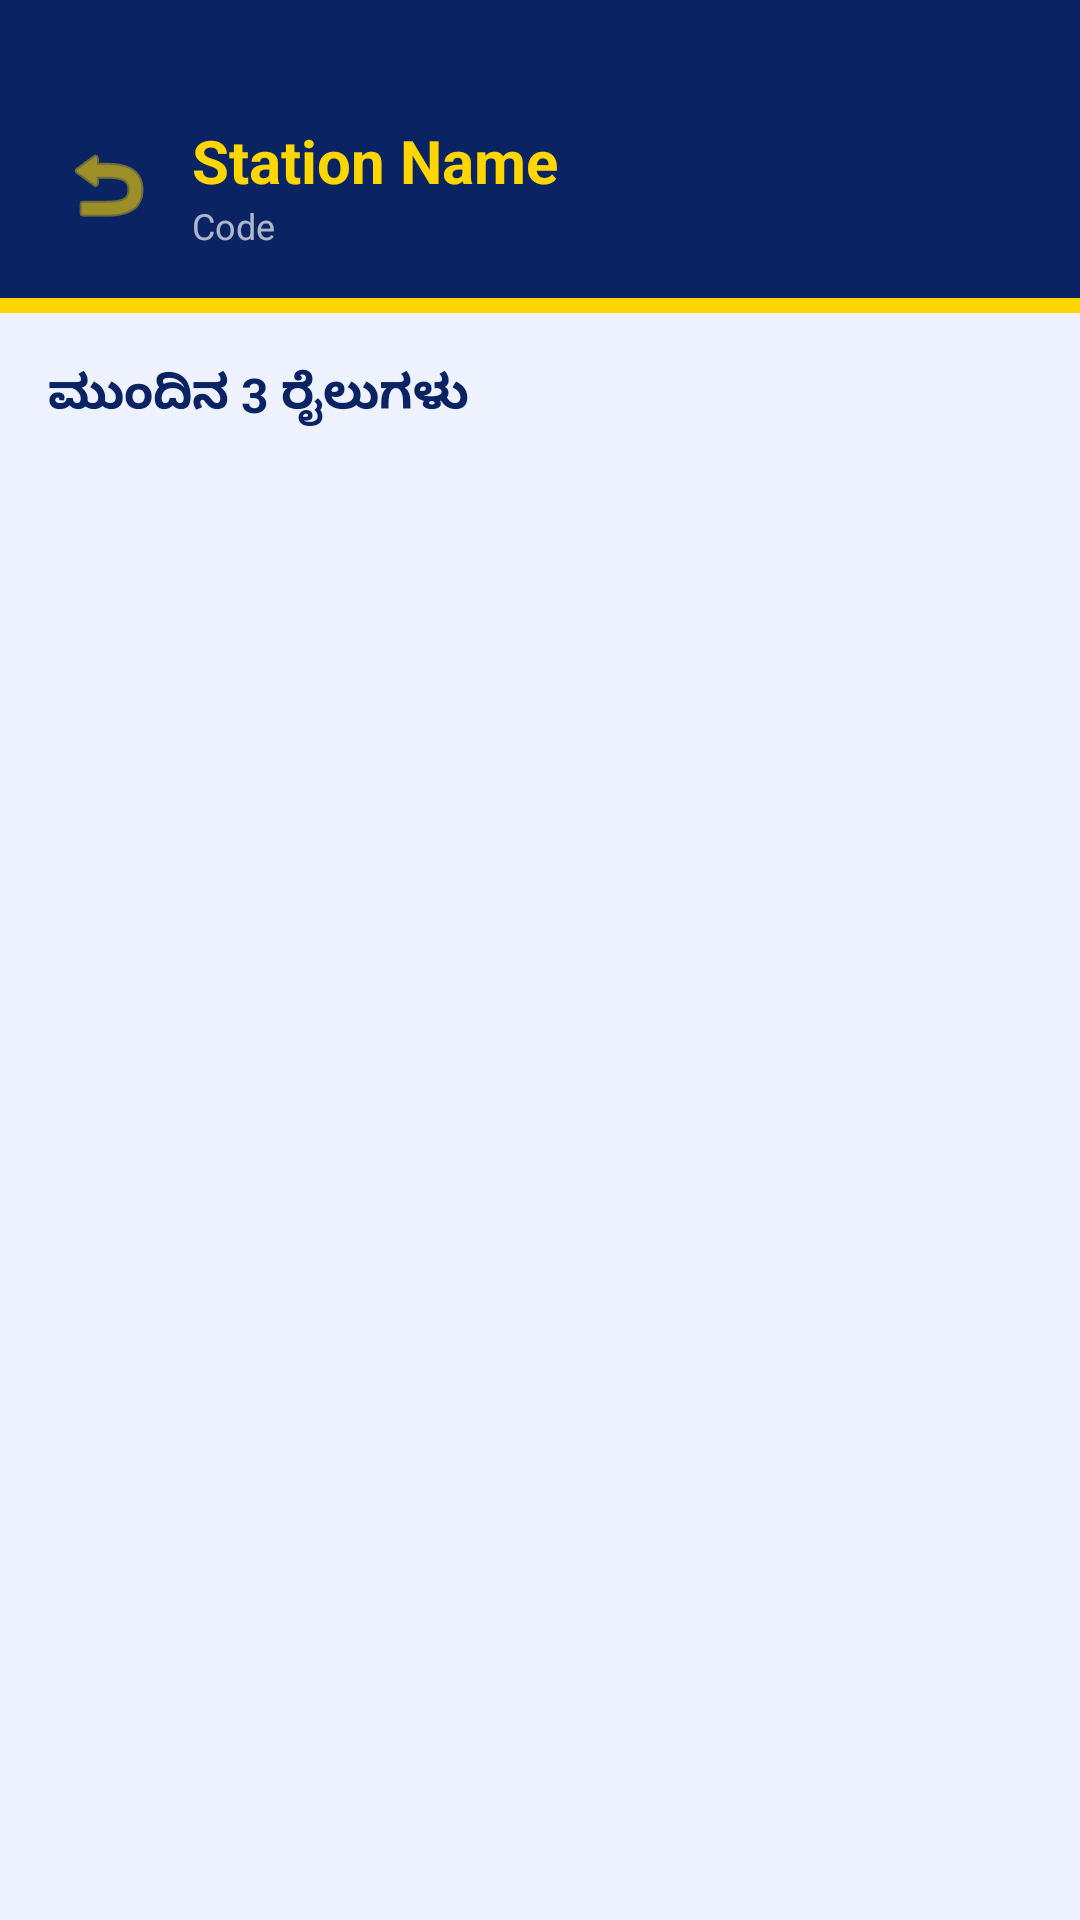

Icons on this 1080px×1920px Android screen, each with its box as (x1, y1, x2, y2):
Back: (75, 154, 144, 217)
